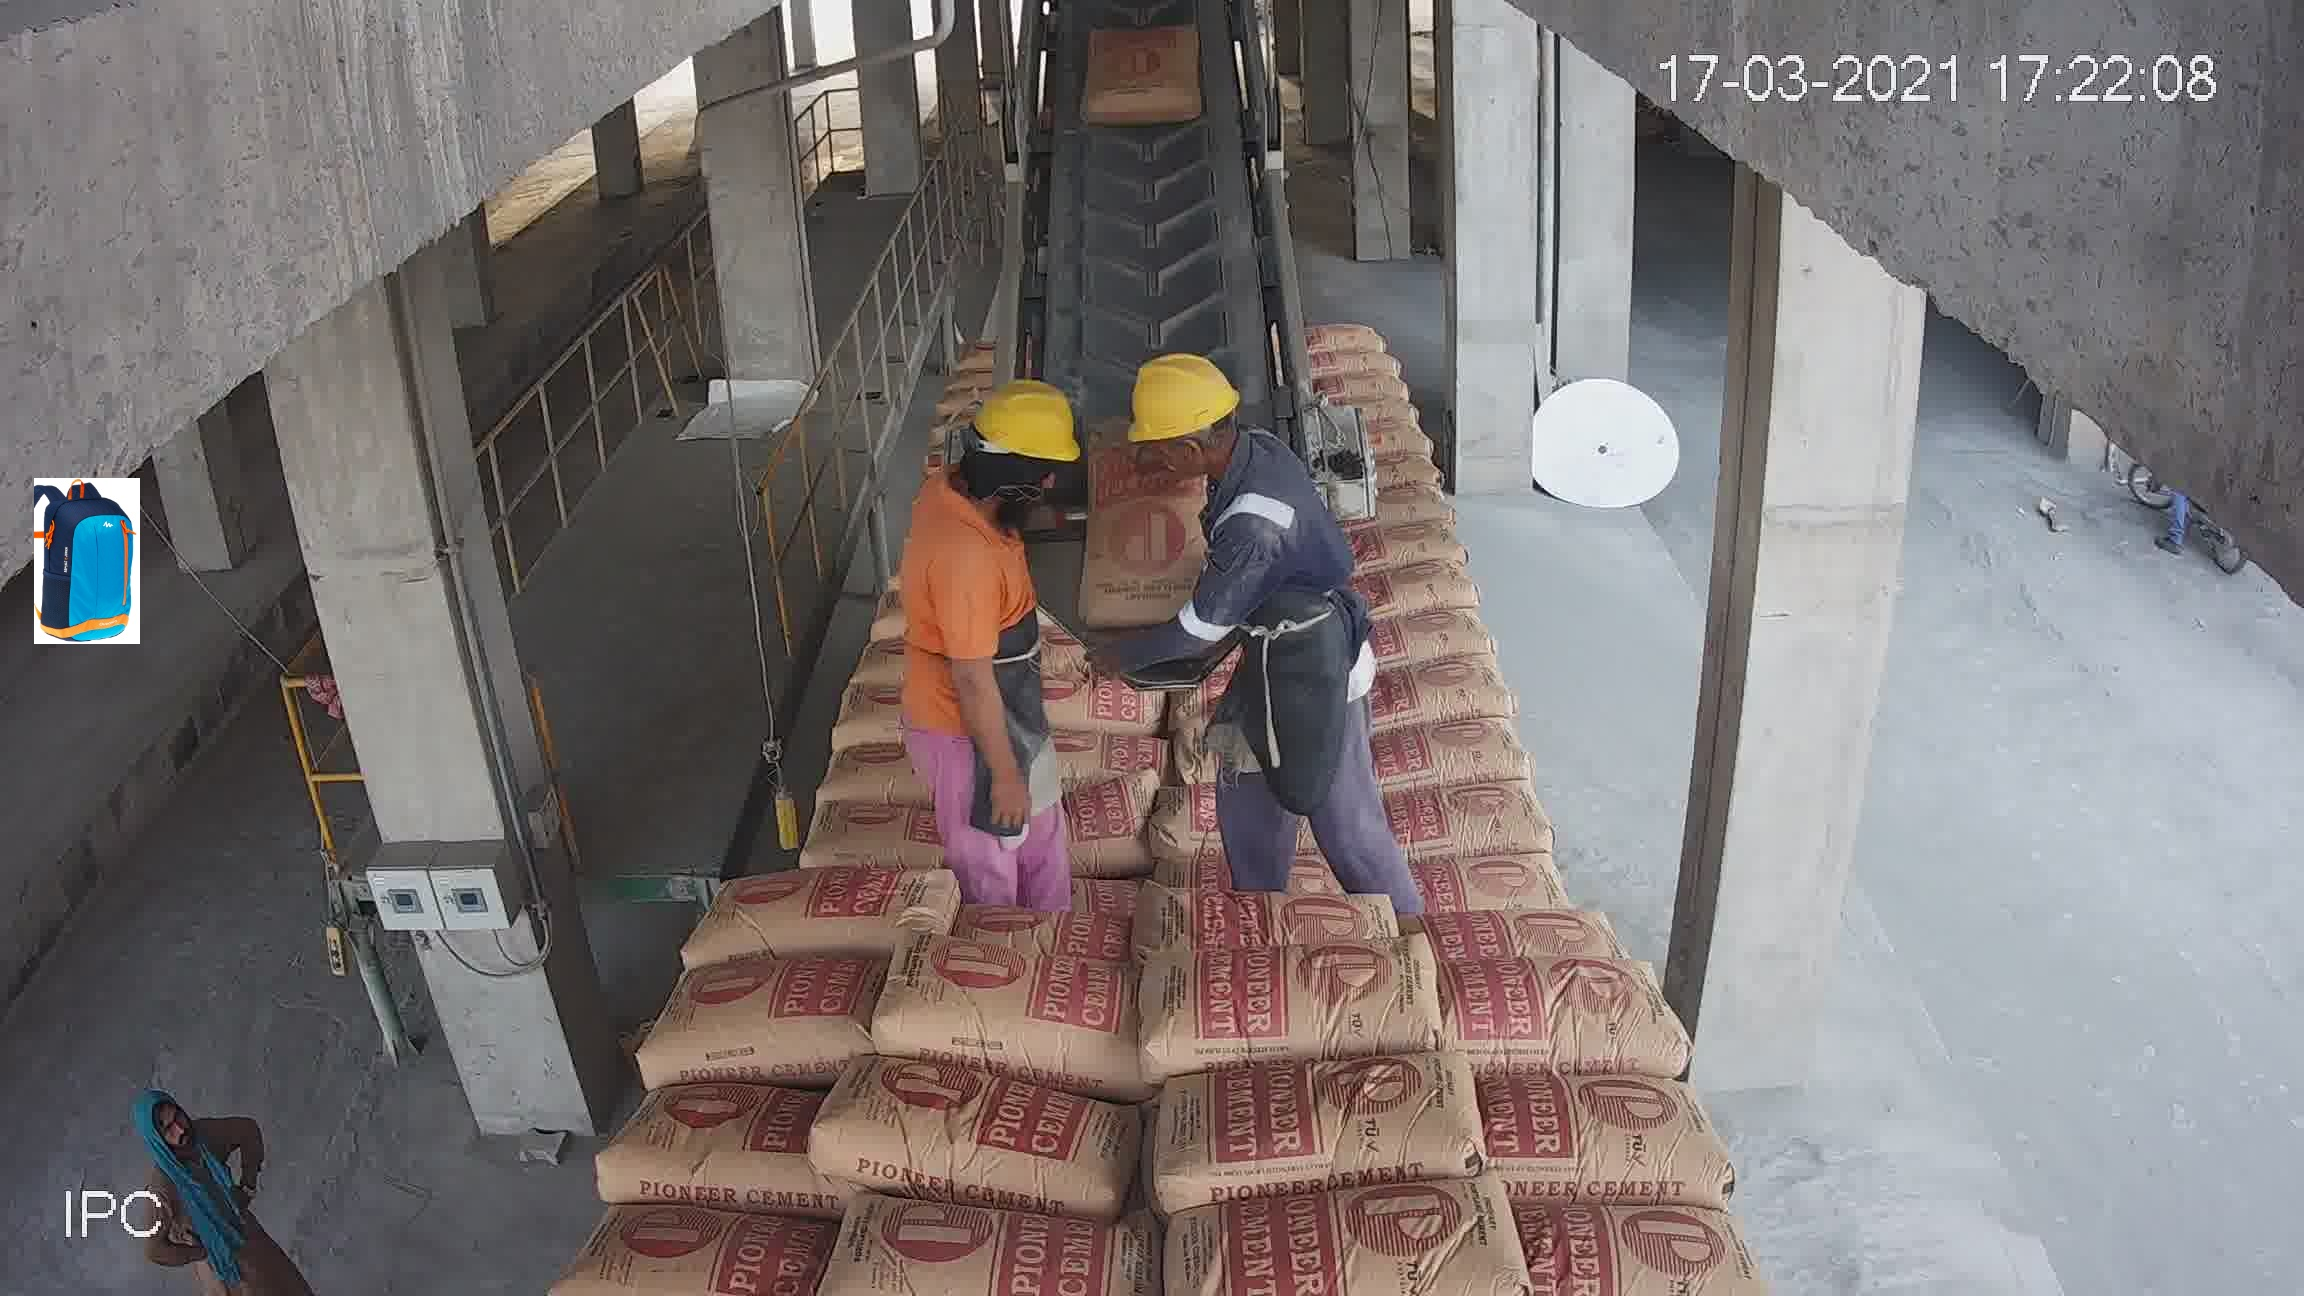bag: (1093, 33, 1199, 153)
bag_h: (793, 1087, 1173, 1211), (1124, 1180, 1537, 1293), (1131, 927, 1438, 1068), (1146, 1070, 1503, 1190), (1130, 717, 1399, 858), (1138, 824, 1429, 949), (801, 1196, 1157, 1296), (877, 937, 1127, 1068), (1480, 1071, 1742, 1190), (593, 1071, 824, 1206), (639, 946, 858, 1081), (734, 695, 984, 794), (1378, 866, 1635, 956), (945, 839, 1135, 957), (1492, 1196, 1750, 1283), (1453, 957, 1681, 1051), (574, 1203, 826, 1285), (706, 779, 911, 878), (902, 752, 1131, 837), (646, 878, 897, 956), (1404, 763, 1612, 837), (1021, 674, 1171, 734), (1385, 717, 1546, 763), (1400, 654, 1514, 718), (1052, 590, 1193, 642), (1369, 544, 1475, 608), (847, 642, 957, 690), (1079, 620, 1173, 673), (1396, 604, 1480, 655), (873, 584, 945, 638), (1195, 570, 1237, 609)
belt: (1022, 52, 1275, 479)
